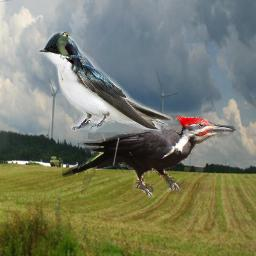Cuckoo: (56, 32, 95, 82)
Swallow: (37, 30, 173, 134)
Woodpecker: (62, 115, 236, 199)
